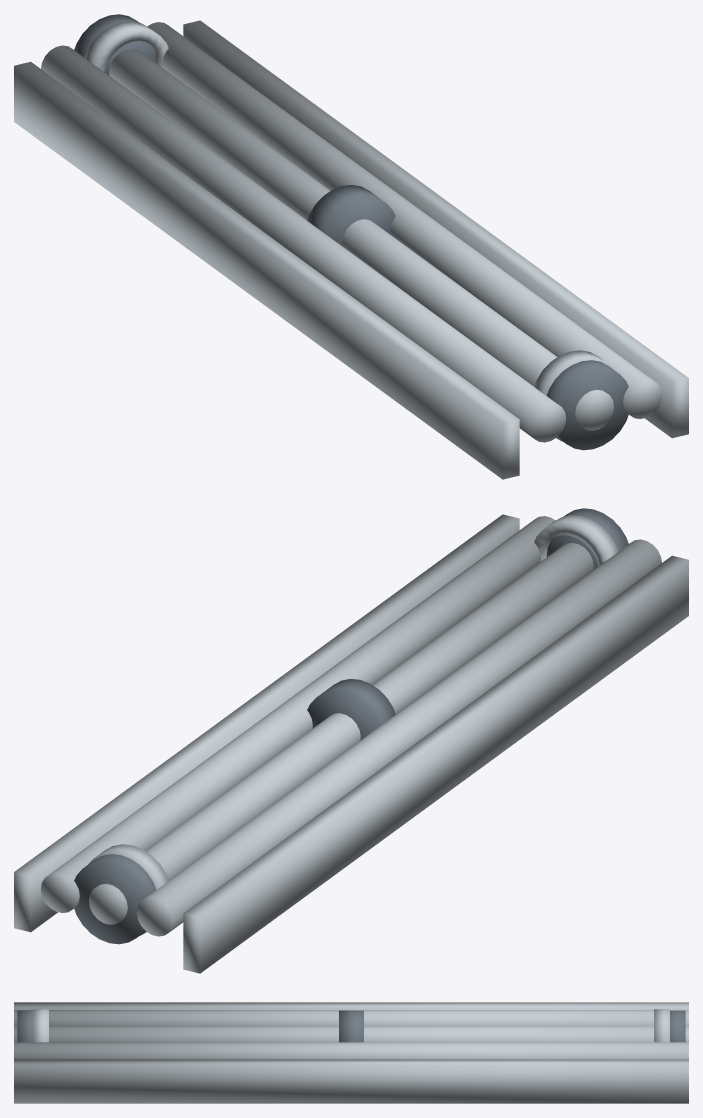
File: cable_tray_enhanced.glb
3 renders of one model, top to bottom at view 1: azimuth 30°, elevation 25°; view 2: azimuth 150°, elevation 25°; view 3: azimuth 270°, elevation 25°, orthographic. The views are drawn at different scales.
Visible parts, largest first — view 1: Conduit_steel, Tray_steel, Coupler_dark, Flange_steel; view 2: Conduit_steel, Tray_steel, Coupler_dark, Flange_steel; view 3: Tray_steel, Conduit_steel, Coupler_dark, Flange_steel.
Part boxes in pixels (bbox=[...]): Conduit_steel: bbox=[41, 22, 661, 442]; Tray_steel: bbox=[14, 20, 688, 479]; Coupler_dark: bbox=[74, 14, 628, 450]; Flange_steel: bbox=[84, 21, 614, 441]; Conduit_steel: bbox=[41, 516, 661, 936]; Tray_steel: bbox=[14, 514, 688, 973]; Coupler_dark: bbox=[74, 508, 628, 944]; Flange_steel: bbox=[88, 515, 618, 935]; Tray_steel: bbox=[14, 1002, 688, 1103]; Conduit_steel: bbox=[14, 1010, 688, 1059]; Coupler_dark: bbox=[17, 1010, 685, 1042]; Flange_steel: bbox=[33, 1009, 669, 1042].
Size of the model in its own units: 0.66 by 0.295 by 3.
